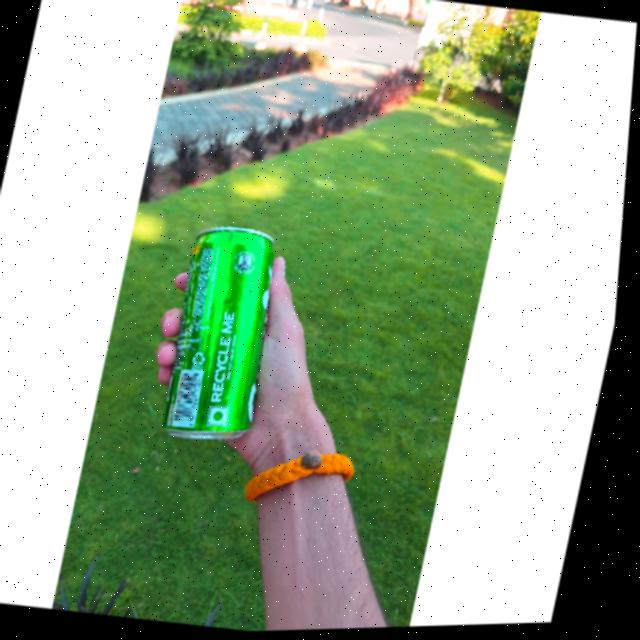Sprite: (168, 226, 294, 447)
